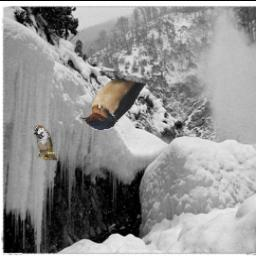Sparrow: (33, 126, 57, 161)
Swallow: (78, 72, 147, 131)
